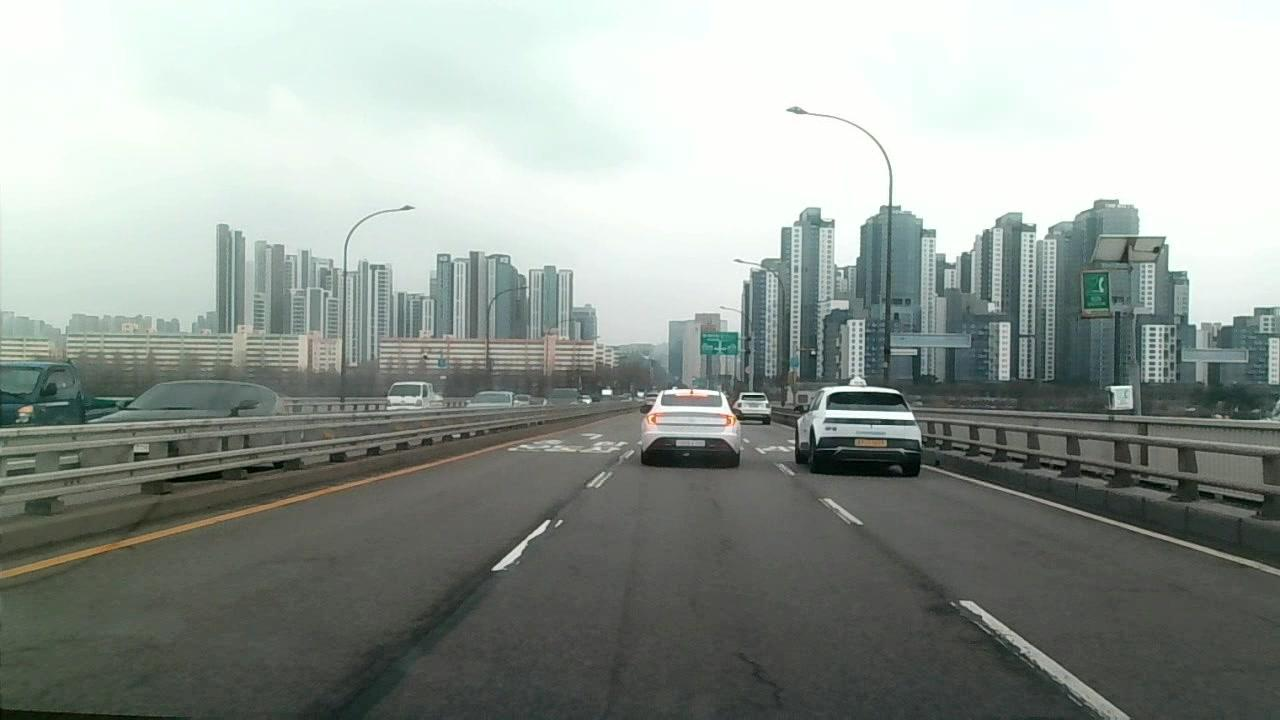vcrack: (325, 574, 483, 720), (928, 592, 1062, 686), (727, 643, 794, 709)
